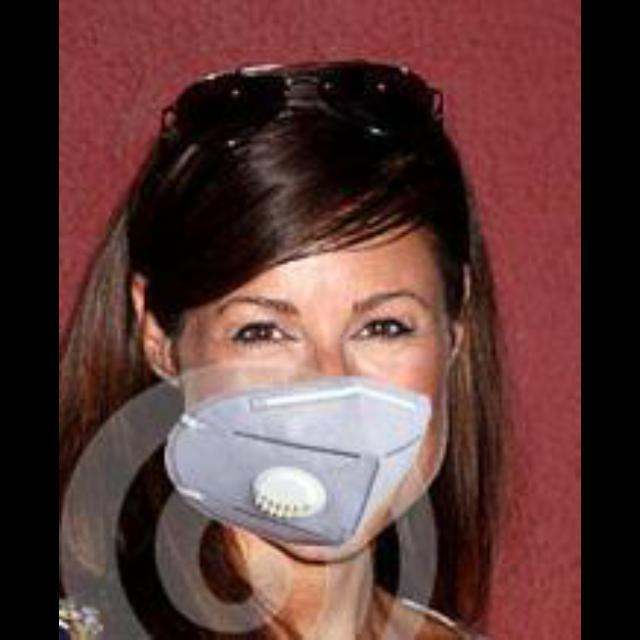suspicion: (131, 150, 509, 592)
